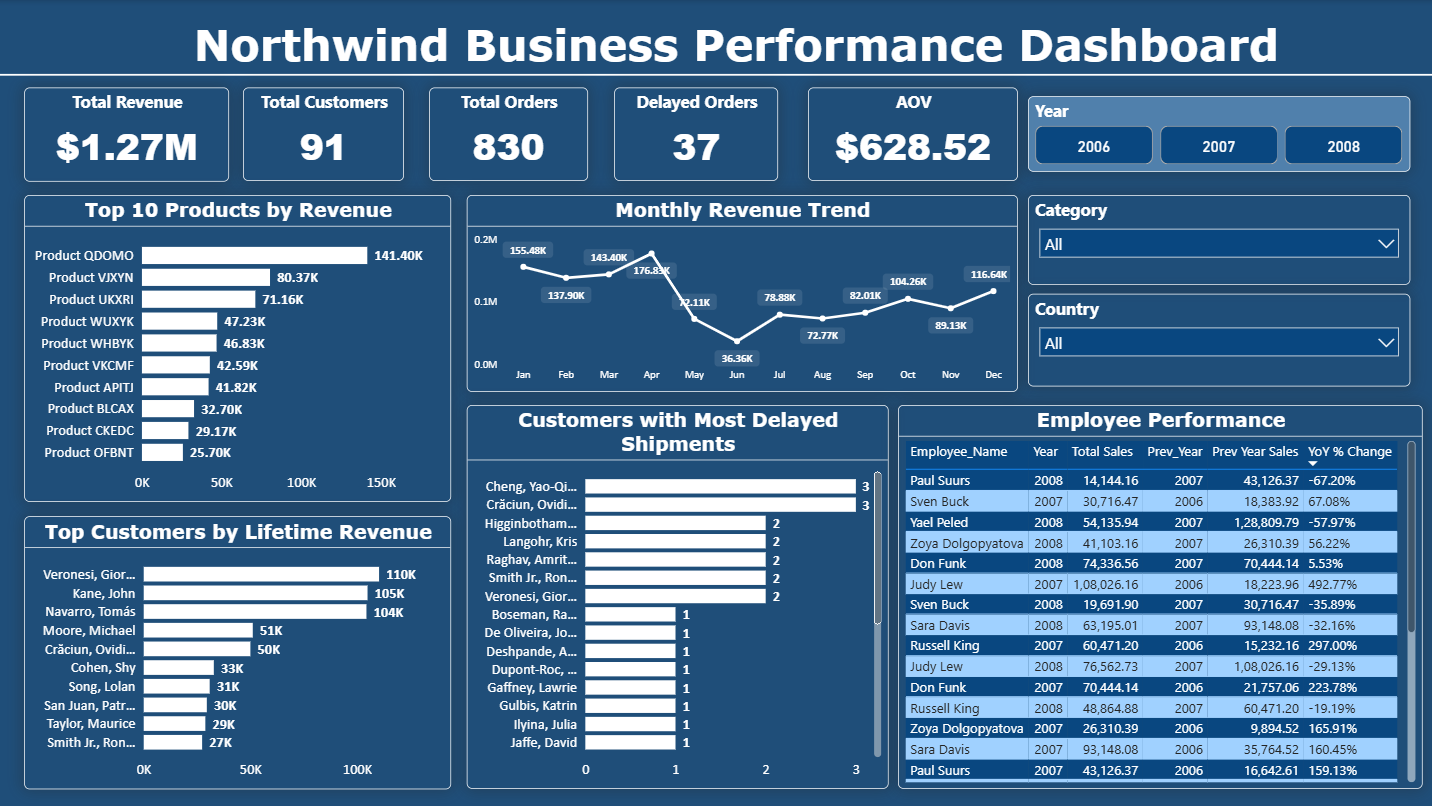

Layout of this report page (visuals, bound fields, positions):
{"tool":"powerbi","page":{"name":"Page 1","canvas":[1600,900],"ordinal":0},"visuals":[{"type":"textbox","box":[212.2,16,1232.6,82.8],"z":0},{"type":"shape","box":[0,67.9,1600,30.2],"z":1000},{"type":"card","title":"Total Revenue","fields":{"Values":["measures_.Total Revenue"]},"box":[29.1,97.4,228.2,104.7],"z":2000},{"type":"card","title":"Total Customers","fields":{"Values":["measures_.Total Customers"]},"box":[273,98,179.5,104.1],"z":3000},{"type":"card","title":"Total Orders","fields":{"Values":["measures_.Total Orders"]},"box":[479.6,98,176.4,104.1],"z":4000},{"type":"card","title":"Delayed Orders","fields":{"Values":["measures_.Delayed Orders"]},"box":[686.2,98,182.5,104.1],"z":5000},{"type":"card","title":"AOV","fields":{"Values":["measures_.AOV"]},"box":[901.8,98,233.7,104.1],"z":6000},{"type":"clusteredBarChart","title":"Top 10 Products by Revenue","fields":{"Category":["public product.productname"],"Y":["measures_.Total Revenue"]},"box":[29.1,216.6,475.3,341.6],"z":7000},{"type":"lineChart","title":"Monthly Revenue Trend","fields":{"Y":["measures_.Total Revenue"],"Category":["public salesorder.Month_MMM"]},"box":[521.8,216.6,613.4,219.5],"z":8000},{"type":"clusteredBarChart","title":"Top Customers by Lifetime Revenue","fields":{"Y":["measures_.Customer LTV"],"Category":["public customer.contactname"]},"box":[29.1,574.1,475.3,303.8],"z":9000},{"type":"clusteredBarChart","title":"Customers with Most Delayed Shipments","fields":{"Y":["measures_.Delayed Orders"],"Category":["public customer.contactname"]},"box":[521.8,450.6,469.5,427.3],"z":10000},{"type":"tableEx","title":"Employee Performance","fields":{"Values":["public employee.Employee_Name","public salesorder.orderdate.Variation.Date Hierarchy.Year","measures_.Total Sales","measures_.Prev Year Number","measures_.Prev Year Sales","measures_.YoY % Change"]},"box":[1001.5,450.6,584.3,427.3],"z":11000},{"type":"advancedSlicerVisual","fields":{"Values":["public salesorder.orderdate.Variation.Date Hierarchy.Year"]},"box":[1146.8,107.6,425.9,84.3],"z":12000},{"type":"slicer","title":"Category","fields":{"Values":["public category.categoryname"]},"box":[1146.8,216.6,425.9,100.3],"z":13000},{"type":"slicer","title":"Country","fields":{"Values":["public customer.country"]},"box":[1146.8,327,425.9,103.2],"z":13001}]}

Visuals, with their boxes in screenshot pixels (x1, y1, x2, y2), scaled from the page's 1600x900 canvas onto the 1432x806 screenshot:
textbox: (x1=190, y1=14, x2=1293, y2=88)
shape: (x1=0, y1=61, x2=1431, y2=88)
"Total Revenue" card: (x1=26, y1=87, x2=230, y2=181)
"Total Customers" card: (x1=244, y1=88, x2=405, y2=181)
"Total Orders" card: (x1=429, y1=88, x2=587, y2=181)
"Delayed Orders" card: (x1=614, y1=88, x2=777, y2=181)
"AOV" card: (x1=807, y1=88, x2=1016, y2=181)
"Top 10 Products by Revenue" clusteredBarChart: (x1=26, y1=194, x2=451, y2=500)
"Monthly Revenue Trend" lineChart: (x1=467, y1=194, x2=1016, y2=391)
"Top Customers by Lifetime Revenue" clusteredBarChart: (x1=26, y1=514, x2=451, y2=786)
"Customers with Most Delayed Shipments" clusteredBarChart: (x1=467, y1=404, x2=887, y2=786)
"Employee Performance" tableEx: (x1=896, y1=404, x2=1419, y2=786)
advancedSlicerVisual - public salesorder.orderdate.Variation.Date Hierarchy.Year: (x1=1026, y1=96, x2=1408, y2=172)
"Category" slicer: (x1=1026, y1=194, x2=1408, y2=284)
"Country" slicer: (x1=1026, y1=293, x2=1408, y2=385)
